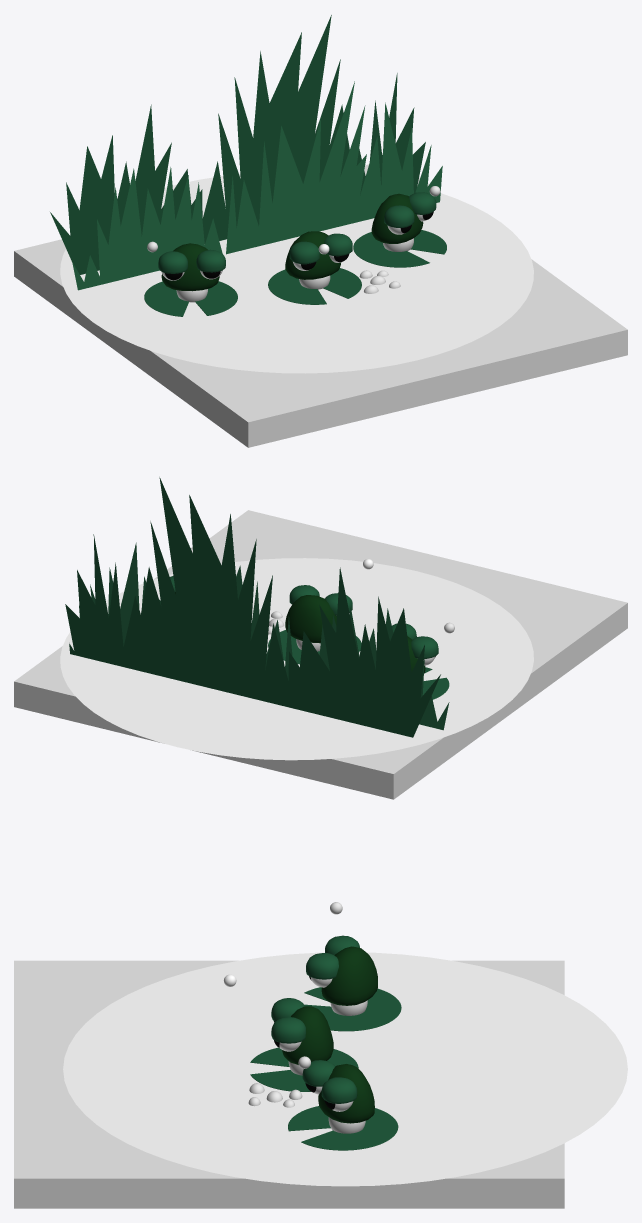
Rendered from frog2.glb.
3 views of the same model, one above another, from view 1: azimuth 30°, elevation 25°; view 2: azimuth 150°, elevation 25°; view 3: azimuth 270°, elevation 25° (orthographic). The views are drawn at different scales.
Parts seen in each view (by area): view 1: water, Cube 4, grass front, grass back, frog pad.001, frog pad.002, frog pad, frog head.001, frog head, frog head.002, eyelid right.002; view 2: water, grass back, Cube 4, grass front, frog head.002, eyelid right; view 3: water, Cube 4, frog pad.001, frog head, frog pad, frog head.002, frog pad.002, frog head.001, eyelid left.001, eyelid left.002, eyelid left, eyelid right.001.
Part boxes in pixels (left/top/right/bottom): water: left=60, top=174, right=533, bottom=373; Cube 4: left=14, top=164, right=627, bottom=447; grass front: left=72, top=81, right=442, bottom=290; grass back: left=50, top=15, right=425, bottom=274; frog pad.001: left=353, top=230, right=446, bottom=267; frog pad.002: left=268, top=268, right=361, bottom=304; frog pad: left=144, top=281, right=237, bottom=316; frog head.001: left=371, top=193, right=423, bottom=243; frog head: left=161, top=243, right=219, bottom=291; frog head.002: left=285, top=231, right=341, bottom=279; eyelid right.002: left=289, top=241, right=319, bottom=264; water: left=60, top=558, right=533, bottom=760; grass back: left=65, top=477, right=440, bottom=737; Cube 4: left=14, top=510, right=627, bottom=799; grass front: left=79, top=542, right=449, bottom=730; frog head.002: left=285, top=595, right=336, bottom=643; eyelid right: left=411, top=636, right=438, bottom=658; water: left=63, top=952, right=627, bottom=1186; Cube 4: left=14, top=960, right=564, bottom=1208; frog pad.001: left=288, top=1106, right=398, bottom=1150; frog head: left=321, top=946, right=377, bottom=1005; frog pad: left=304, top=987, right=401, bottom=1031; frog head.002: left=282, top=1006, right=333, bottom=1064; frog pad.002: left=250, top=1047, right=358, bottom=1091; frog head.001: left=318, top=1064, right=374, bottom=1123; eyelid left.001: left=321, top=1077, right=357, bottom=1103; eyelid left.002: left=271, top=1017, right=305, bottom=1043; eyelid left: left=306, top=953, right=338, bottom=979; eyelid right.001: left=302, top=1060, right=335, bottom=1086.
Bounding box in the file's own units: 13.61 × 7.18 × 15.07.
